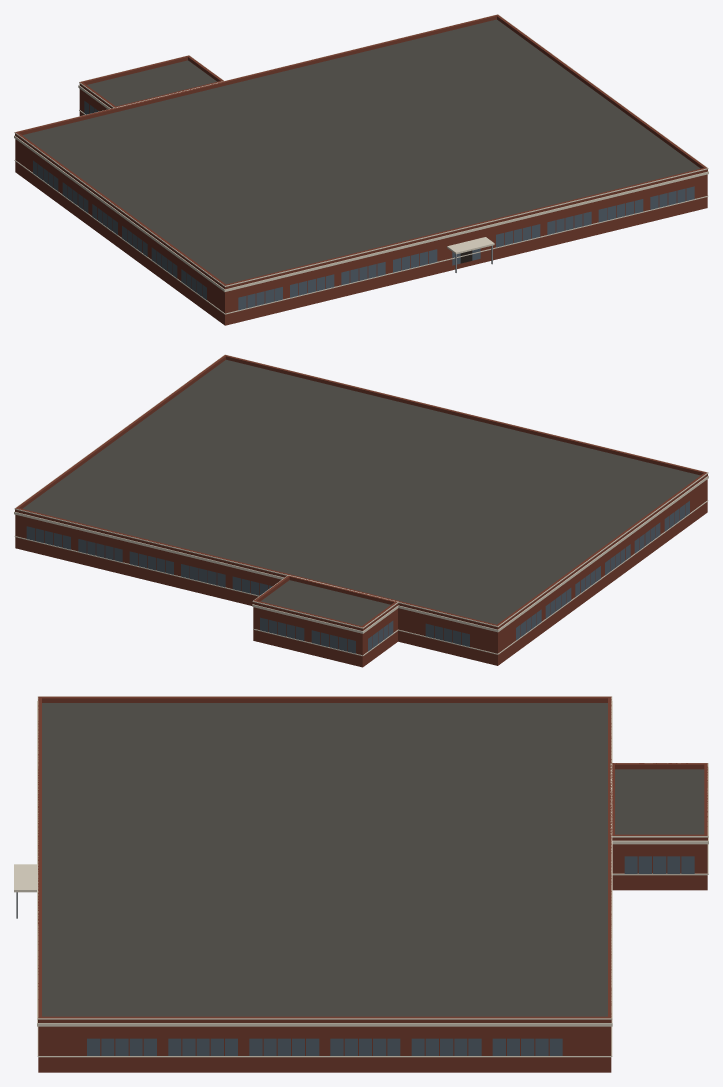
File: baseline-elementary.glb
The picture shows the model from 3 angles, top to bottom: view 1: azimuth 30°, elevation 25°; view 2: azimuth 150°, elevation 25°; view 3: azimuth 270°, elevation 25°; orthographic projection. The views are drawn at different scales.
Visible parts, largest first — view 1: baseline_elementary; view 2: baseline_elementary; view 3: baseline_elementary.
Part boxes in pixels (left/top/right/bottom): baseline_elementary: left=14, top=14, right=708, bottom=325; baseline_elementary: left=14, top=354, right=708, bottom=667; baseline_elementary: left=14, top=696, right=708, bottom=1072.
Bounding box in the file's own units: 75.24 × 5.91 × 68.52.
